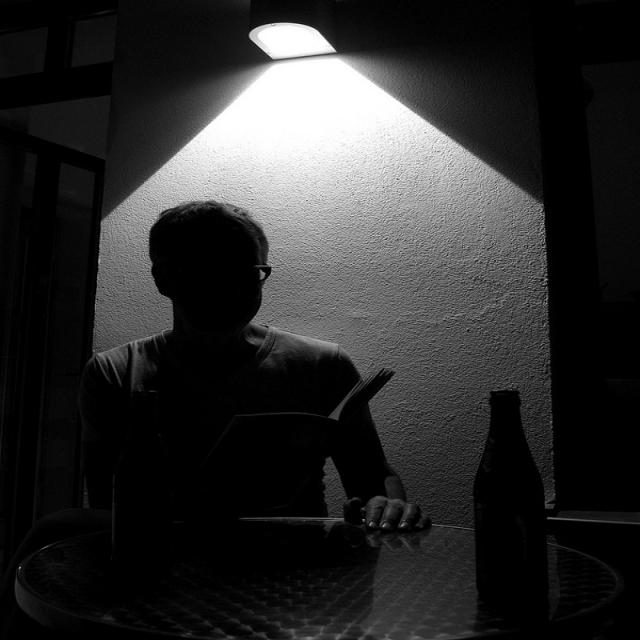Bottle: (461, 379, 558, 599)
People: (98, 171, 411, 574)
Table: (15, 508, 628, 640)
